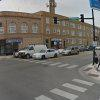Crosswalk: (38, 57, 89, 100)
